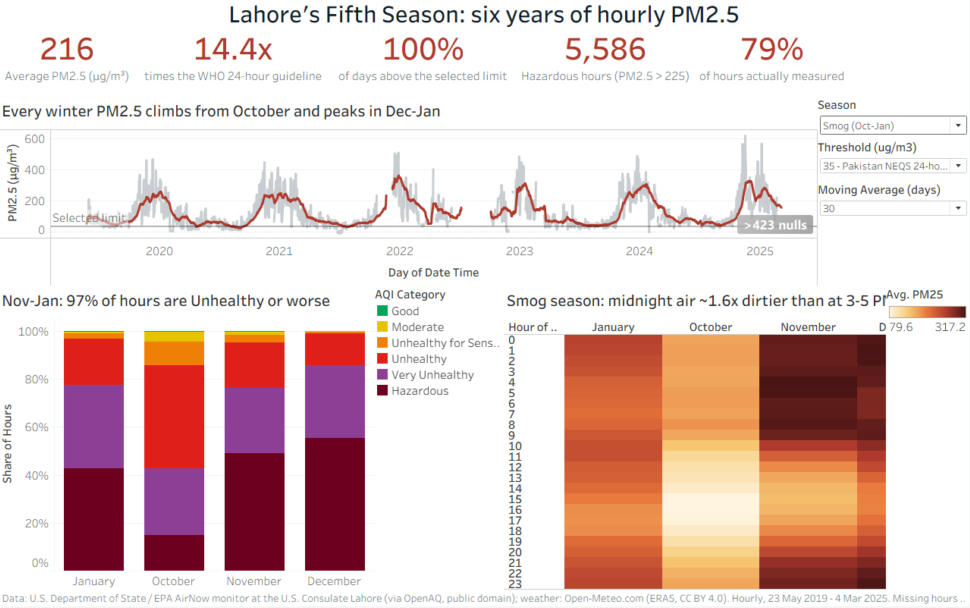

Layout of this report page (visuals, bound fields, positions):
{"tool":"tableau","page":{"name":"When and How Bad","canvas":[1280,800],"ordinal":0},"visuals":[{"type":"text","box":[0,0,1280,36]},{"type":"NONE","title":"KPI Average","box":[0,36,256,92]},{"type":"NONE","title":"KPI WHO","box":[256,36,256,92]},{"type":"NONE","title":"KPI Days Above","box":[512,36,256,92]},{"type":"NONE","title":"KPI Hazardous","box":[768,36,256,92]},{"type":"NONE","title":"KPI Coverage","box":[1024,36,256,92]},{"type":"NONE","title":"Daily Trend","box":[0,128,1080,250]},{"type":"filter","title":"AQI Mix by Month","param":"[federated.0ahyg8e1xelf3914bag3r0yukuro].[none:Season:nk]","box":[1080,128,200,56]},{"type":"parameter","param":"[Parameters].[Parameter 1]","box":[1080,184,200,56]},{"type":"parameter","param":"[Parameters].[Parameter 2]","box":[1080,240,200,56]},{"type":"blank","box":[1080,296,200,82]},{"type":"NONE","title":"AQI Mix by Month","box":[0,378,500,400]},{"type":"legend","title":"AQI Mix by Month","param":"[federated.0ahyg8e1xelf3914bag3r0yukuro].[none:AQI Category:nk]","box":[500,378,170,400]},{"type":"NONE","title":"Smog Clock","box":[670,378,500,400]},{"type":"legend","title":"Smog Clock","param":"[federated.0ahyg8e1xelf3914bag3r0yukuro].[avg:PM25:qk]","box":[1170,378,110,400]},{"type":"text","box":[0,778,1280,22]}]}

Visuals, with their boxes in screenshot pixels (x1, y1, x2, y2), scaled from the page's 1280x800 canvas onto the 970x608 screenshot:
text: <box>0,0,969,27</box>
"KPI Average" NONE: <box>0,27,194,97</box>
"KPI WHO" NONE: <box>194,27,388,97</box>
"KPI Days Above" NONE: <box>388,27,582,97</box>
"KPI Hazardous" NONE: <box>582,27,776,97</box>
"KPI Coverage" NONE: <box>776,27,969,97</box>
"Daily Trend" NONE: <box>0,97,818,287</box>
"AQI Mix by Month" filter: <box>818,97,969,140</box>
parameter: <box>818,140,969,182</box>
parameter: <box>818,182,969,225</box>
blank: <box>818,225,969,287</box>
"AQI Mix by Month" NONE: <box>0,287,379,591</box>
"AQI Mix by Month" legend: <box>379,287,508,591</box>
"Smog Clock" NONE: <box>508,287,887,591</box>
"Smog Clock" legend: <box>887,287,969,591</box>
text: <box>0,591,969,607</box>
